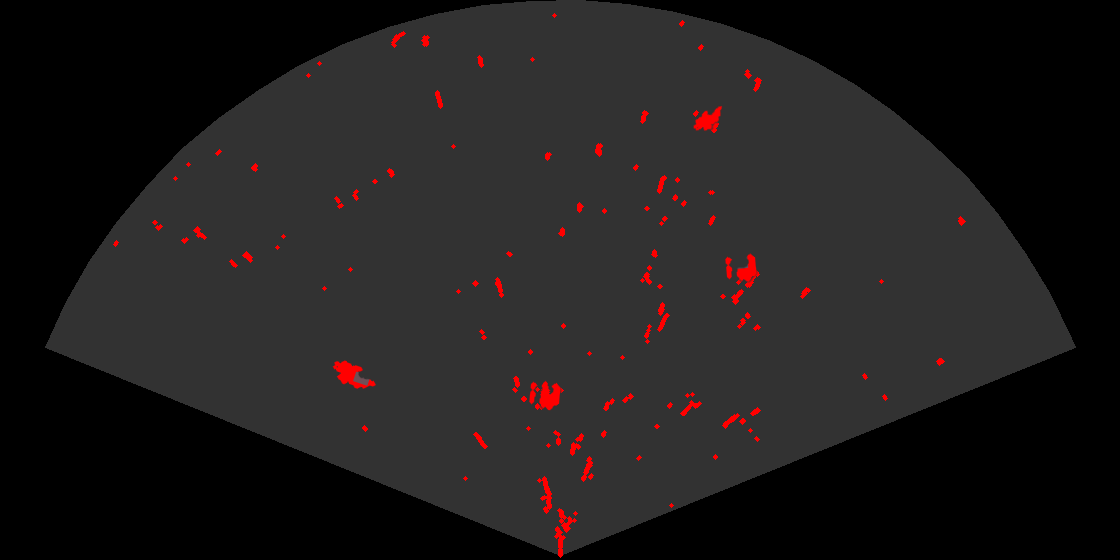AUV: (331, 359, 378, 390), (692, 104, 724, 133)
ball: (528, 379, 562, 412), (724, 252, 758, 283)
